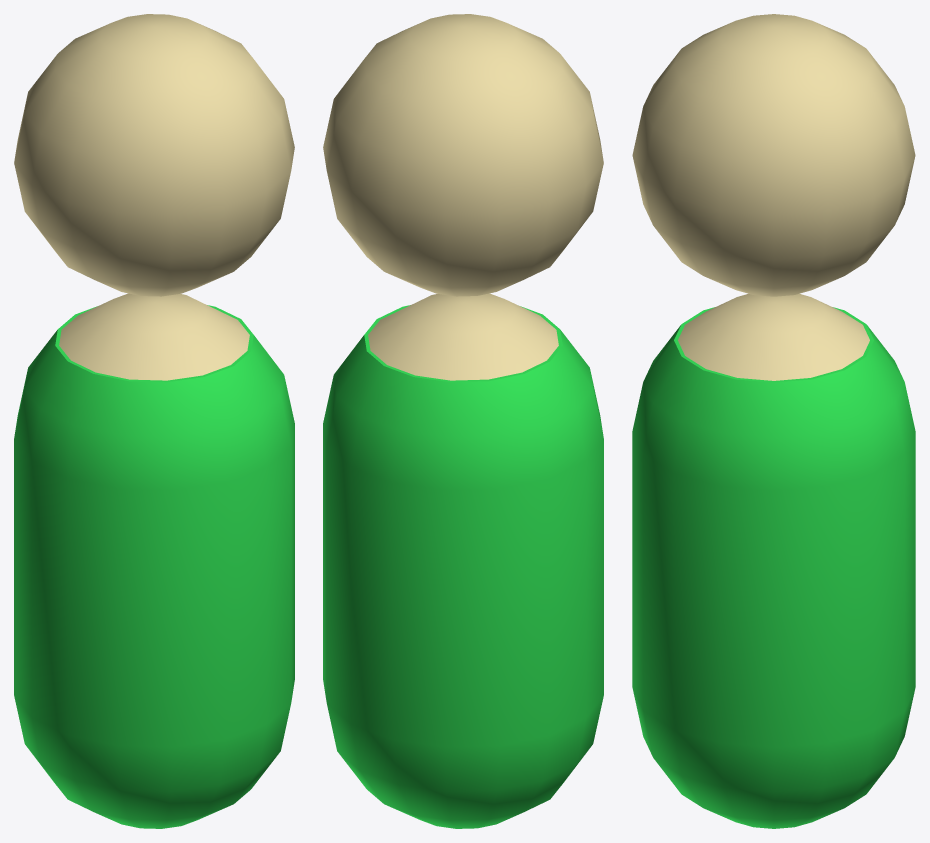
Rendered from person.fbx.
3 views of the same model, side by side, from view 1: azimuth 30°, elevation 25°; view 2: azimuth 150°, elevation 25°; view 3: azimuth 270°, elevation 25° (orthographic).
Visible parts, largest first — view 1: Sphere; view 2: Sphere; view 3: Sphere.
Boxes of the visible parts, x1,y1,x2,y2 form: Sphere: [14, 14, 294, 828]; Sphere: [323, 14, 603, 828]; Sphere: [632, 14, 915, 828].
Bounding box in the file's own units: 2 × 6.15 × 2.
